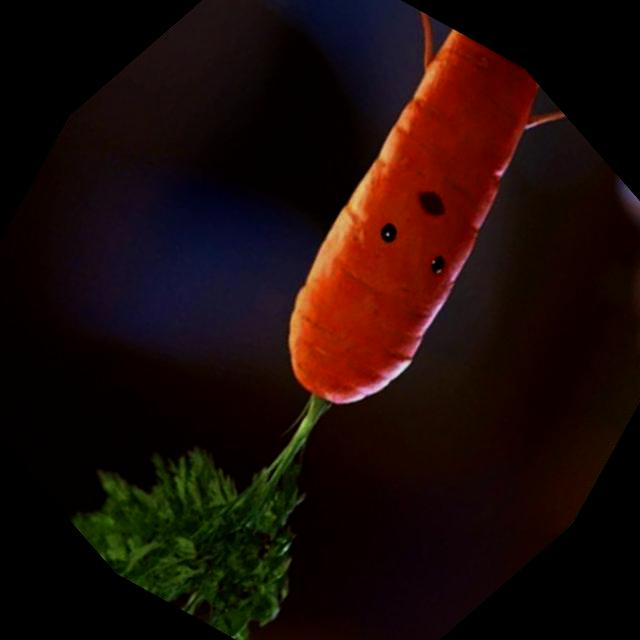carrot: (147, 0, 640, 487)
